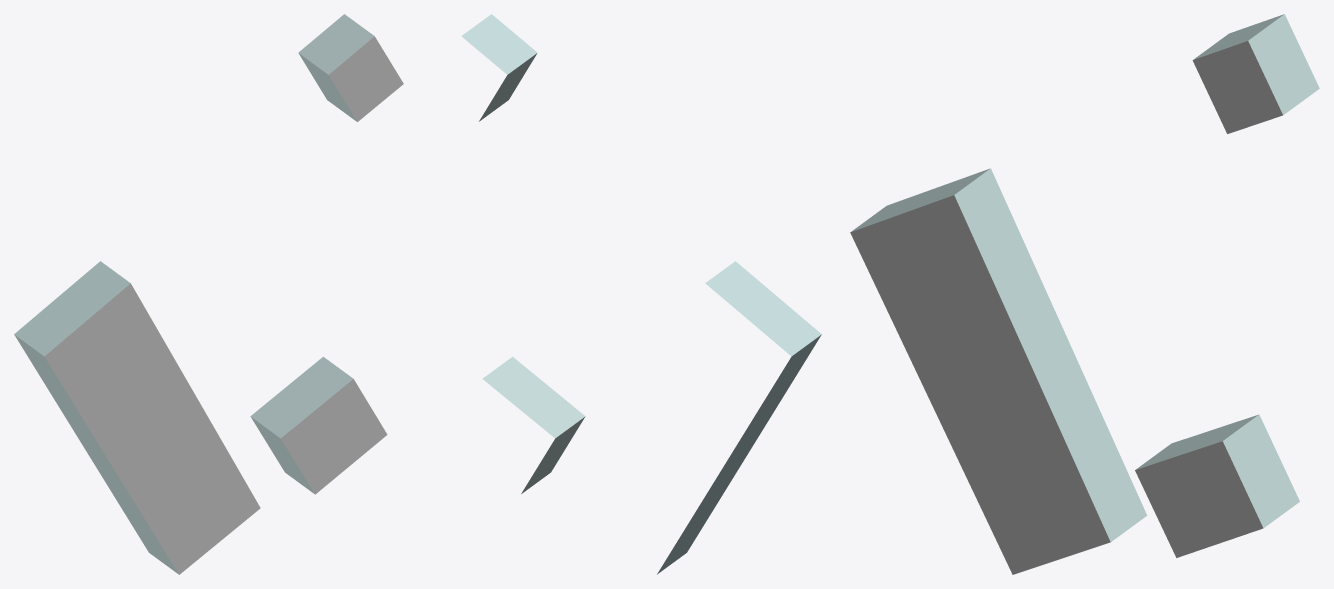
3 views of the same model, side by side, from view 1: azimuth 30°, elevation 25°; view 2: azimuth 150°, elevation 25°; view 3: azimuth 330°, elevation 25° (orthographic). The views are drawn at different scales.
Visible parts, largest first — view 1: 0_1_2_1_0_1_3_1_2; view 2: 0_1_2_1_0_1_3_1_2; view 3: 0_1_2_1_0_1_3_1_2.
Boxes of the visible parts, bbox=[...] form: 0_1_2_1_0_1_3_1_2: bbox=[14, 14, 403, 574]; 0_1_2_1_0_1_3_1_2: bbox=[461, 14, 821, 574]; 0_1_2_1_0_1_3_1_2: bbox=[850, 14, 1319, 574].
Size of the model in its own units: 20.5 by 26.76 by 3.
